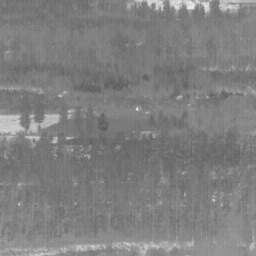aircraft: (104, 100, 106, 102)
